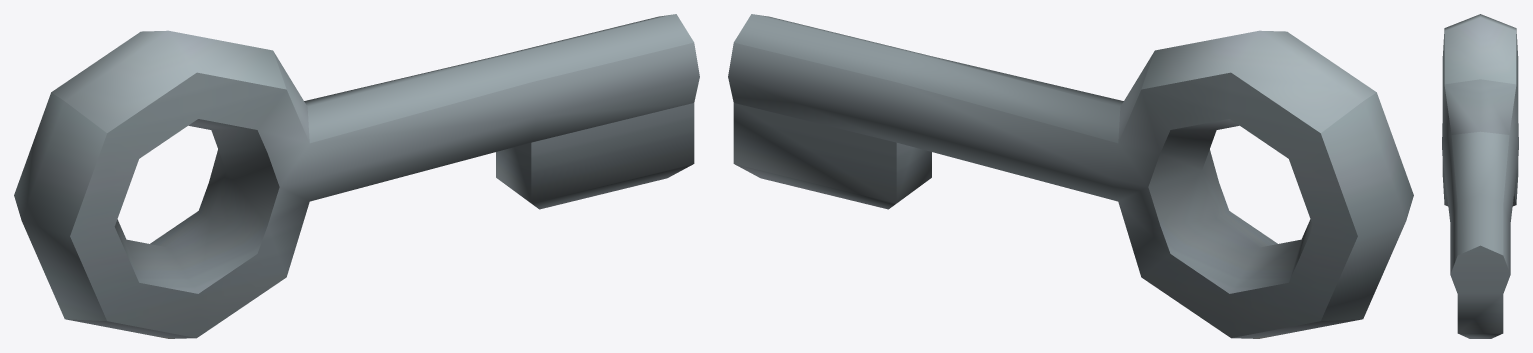
File: key.glb
The picture shows the model from 3 angles, left to right: view 1: azimuth 30°, elevation 25°; view 2: azimuth 150°, elevation 25°; view 3: azimuth 270°, elevation 25°; orthographic projection. The views are drawn at different scales.
Parts seen in each view (by area): view 1: key; view 2: key; view 3: key.
Boxes of the visible parts, <box> form: key: <box>14,14,699,338</box>; key: <box>728,14,1413,338</box>; key: <box>1442,14,1518,338</box>.
Bounding box in the file's own units: 0.8957 × 0.4028 × 0.1418.
Materials: 1 (1 with a texture image).
